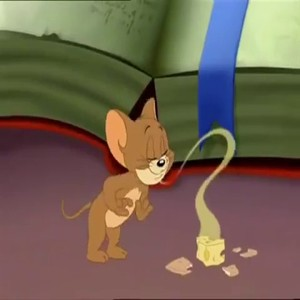Jerry: (58, 91, 175, 264)
